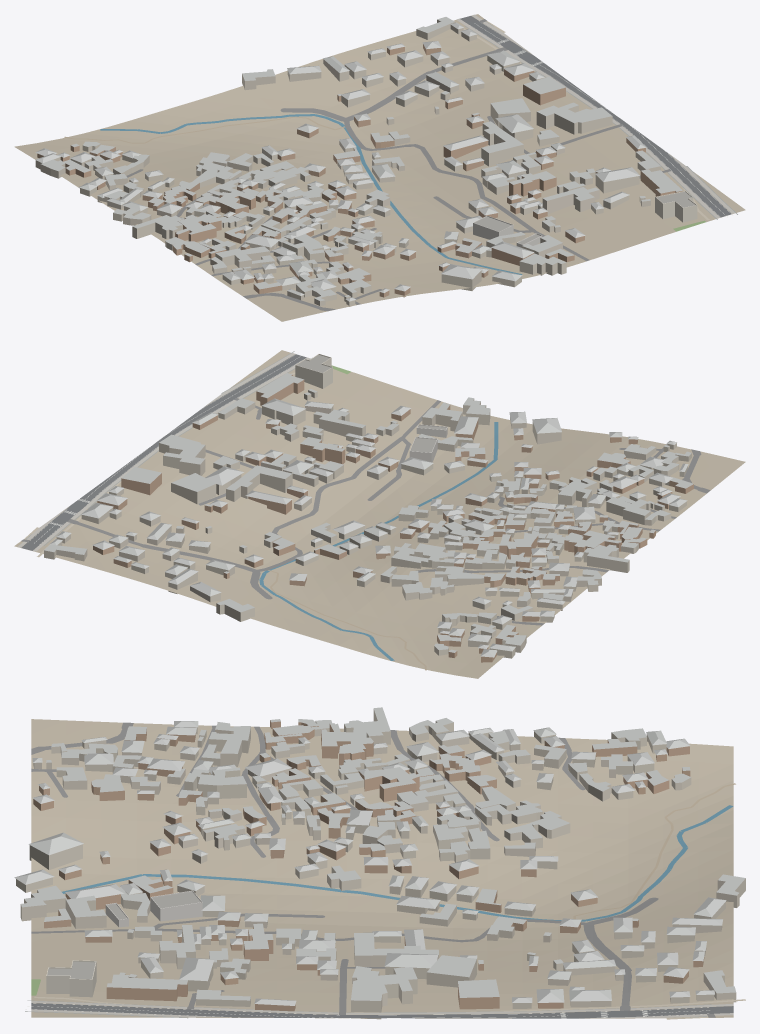
Rendered from bolak_-2_-2.glb.
The picture shows the model from 3 angles, top to bottom: view 1: azimuth 30°, elevation 25°; view 2: azimuth 150°, elevation 25°; view 3: azimuth 270°, elevation 25°; orthographic projection. The views are drawn at different scales.
Visible parts, largest first — view 1: Yer_Tuproq-col, Tom_Shifer, Devor_Suvoq-col, Devor_Gisht-col, Yol_Mahalla-col, Yol_Asfalt-col, Trotuar, Suv, Devor_Jamoat-col, Tom_Tekis, Devor_Dokon-col; view 2: Yer_Tuproq-col, Tom_Shifer, Devor_Suvoq-col, Devor_Gisht-col, Yol_Mahalla-col, Yol_Asfalt-col, Trotuar, Suv, Tom_Tekis, Devor_Jamoat-col, Devor_Dokon-col; view 3: Yer_Tuproq-col, Tom_Shifer, Devor_Suvoq-col, Devor_Gisht-col, Yol_Mahalla-col, Yol_Asfalt-col, Trotuar, Suv, Tom_Tekis, Devor_Dokon-col, Devor_Jamoat-col, Yol_Piyoda (+3 smaller).
Part boxes in pixels (x1,y1,x2,y2): Yer_Tuproq-col: [14, 14, 745, 321]; Tom_Shifer: [35, 17, 682, 301]; Devor_Suvoq-col: [35, 19, 660, 306]; Devor_Gisht-col: [37, 44, 682, 297]; Yol_Mahalla-col: [78, 19, 670, 311]; Yol_Asfalt-col: [460, 16, 731, 217]; Trotuar: [456, 14, 735, 218]; Suv: [100, 114, 522, 274]; Devor_Jamoat-col: [655, 191, 697, 222]; Tom_Tekis: [475, 192, 695, 244]; Devor_Dokon-col: [473, 215, 542, 247]; Yer_Tuproq-col: [14, 350, 745, 678]; Tom_Shifer: [44, 373, 693, 657]; Devor_Suvoq-col: [44, 390, 691, 658]; Devor_Gisht-col: [93, 375, 693, 662]; Yol_Mahalla-col: [21, 398, 710, 625]; Yol_Asfalt-col: [21, 354, 306, 550]; Trotuar: [18, 353, 310, 551]; Suv: [259, 422, 498, 660]; Tom_Tekis: [297, 355, 446, 452]; Devor_Jamoat-col: [295, 354, 332, 388]; Devor_Dokon-col: [409, 424, 447, 462]; Yer_Tuproq-col: [31, 719, 733, 1018]; Tom_Shifer: [14, 707, 745, 1005]; Devor_Suvoq-col: [16, 709, 745, 1019]; Devor_Gisht-col: [33, 720, 704, 1011]; Yol_Mahalla-col: [31, 722, 715, 1018]; Yol_Asfalt-col: [31, 1003, 733, 1018]; Trotuar: [31, 1001, 733, 1018]; Suv: [62, 805, 733, 921]; Tom_Tekis: [47, 892, 200, 979]; Devor_Dokon-col: [105, 890, 202, 927]; Devor_Jamoat-col: [46, 960, 96, 997]; Yol_Piyoda: [34, 996, 745, 1019].
Size of what is drawn, in the model's own units: 416 by 28.62 by 417.
